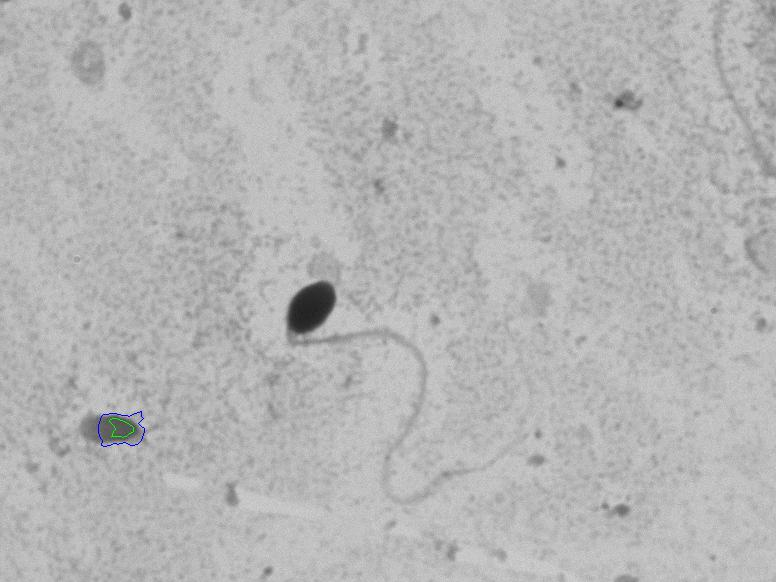Abnormal: (253, 263, 551, 535)
